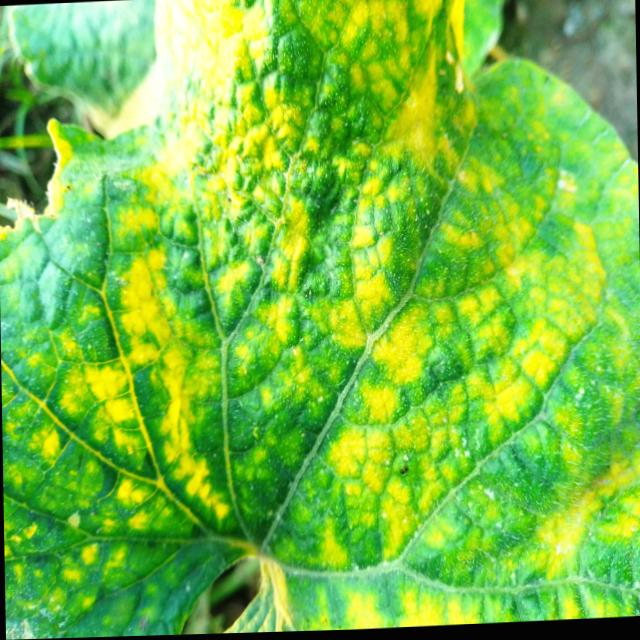Downy-Mildew: (2, 0, 640, 640)
